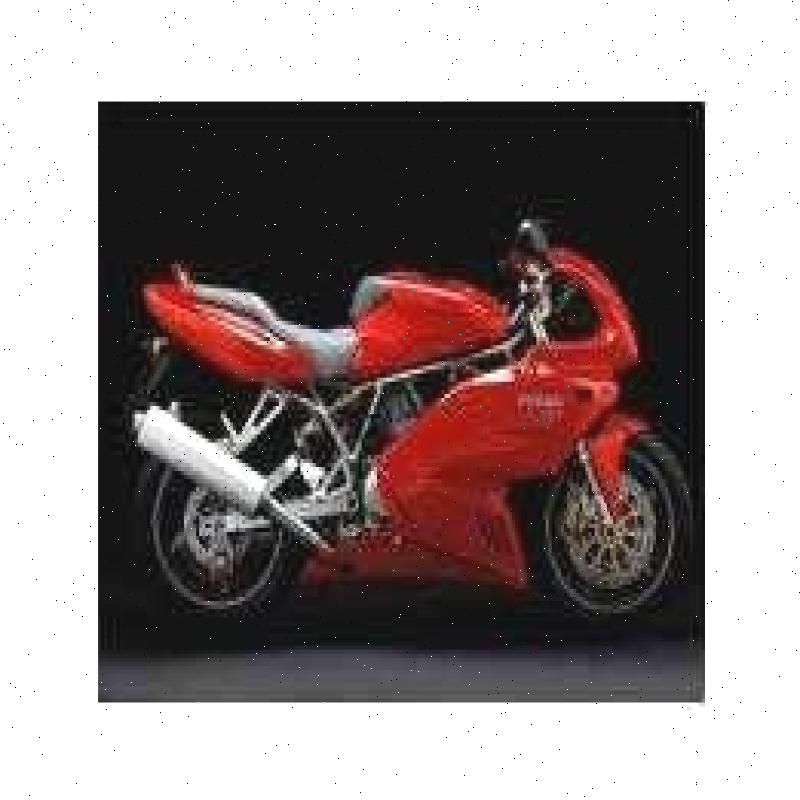bike: (106, 181, 697, 637)
